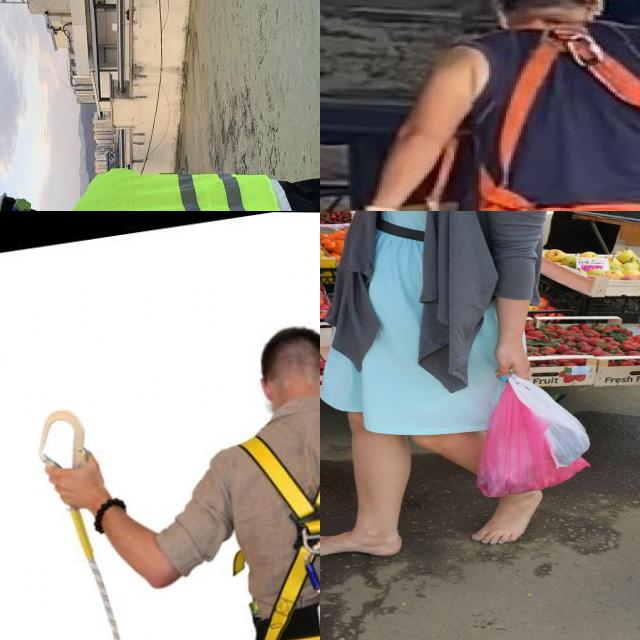Barefoots: (472, 488, 542, 544), (320, 530, 401, 556)
Harness: (499, 21, 640, 211), (240, 436, 320, 640)
vest: (58, 159, 288, 211)
